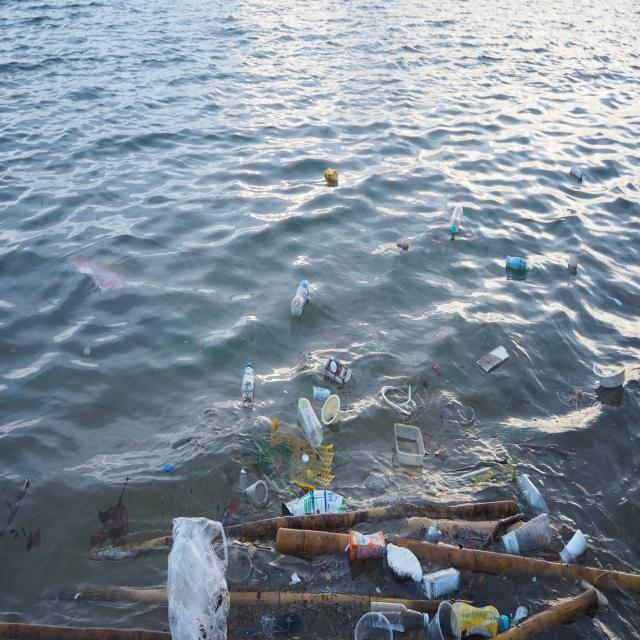foam: (385, 540, 424, 586), (592, 361, 629, 390)
plastic: (498, 512, 553, 552), (369, 600, 429, 634), (454, 605, 511, 637), (296, 396, 322, 445), (560, 528, 588, 560), (292, 276, 310, 318), (450, 200, 463, 240), (505, 250, 528, 272), (242, 362, 255, 398), (323, 166, 338, 184), (569, 167, 584, 181)
plastic bottle: (169, 510, 235, 640), (278, 488, 349, 524), (418, 598, 460, 640), (392, 418, 426, 469), (378, 378, 421, 416), (515, 470, 548, 510), (236, 472, 266, 509), (356, 612, 393, 640), (320, 397, 342, 426), (309, 386, 331, 403), (604, 292, 623, 310), (393, 237, 411, 251), (567, 254, 580, 268)
unknow: (271, 419, 334, 489), (72, 254, 139, 296), (346, 528, 388, 561), (422, 568, 462, 596), (476, 342, 510, 374), (324, 354, 352, 386), (422, 518, 446, 546)
